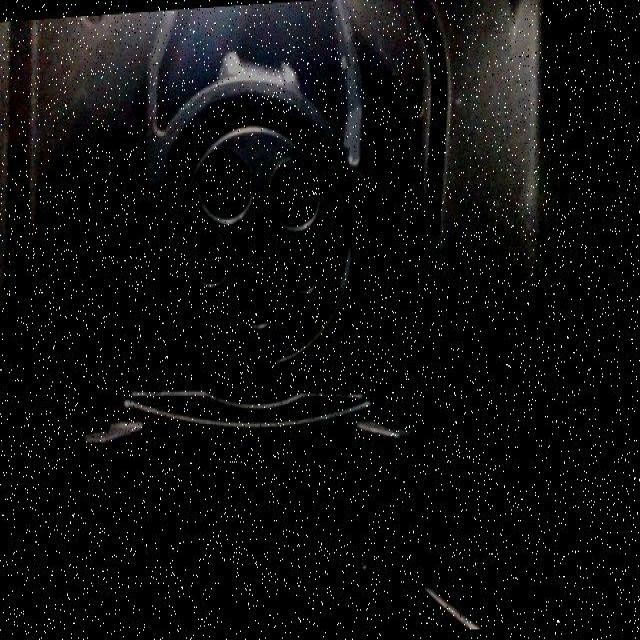Type 1: (124, 50, 393, 372)
